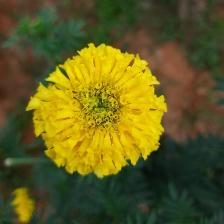marigold: (26, 43, 170, 178)
